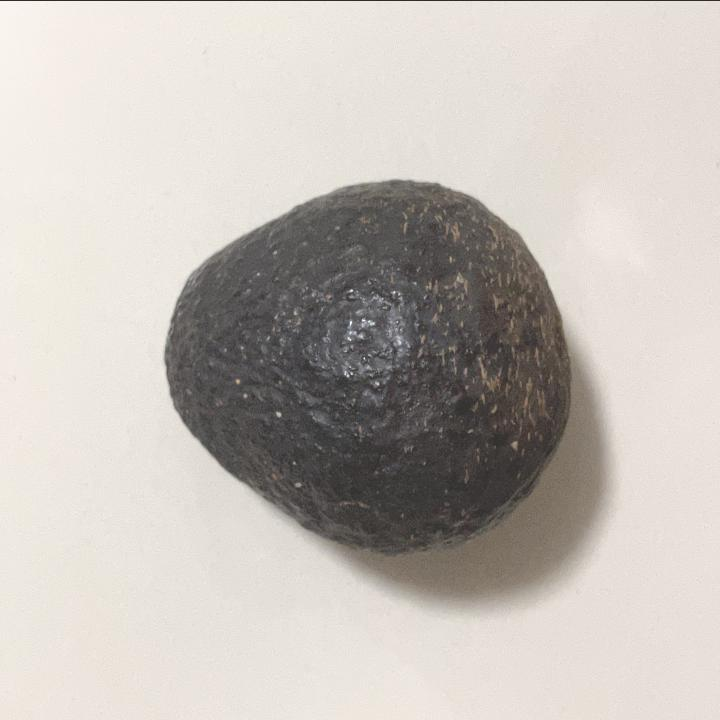Level3: (154, 163, 580, 568)
